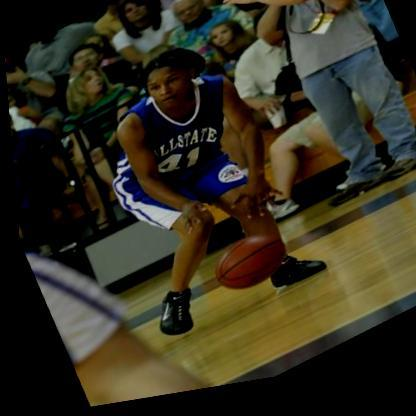basketball: (203, 229, 293, 311)
